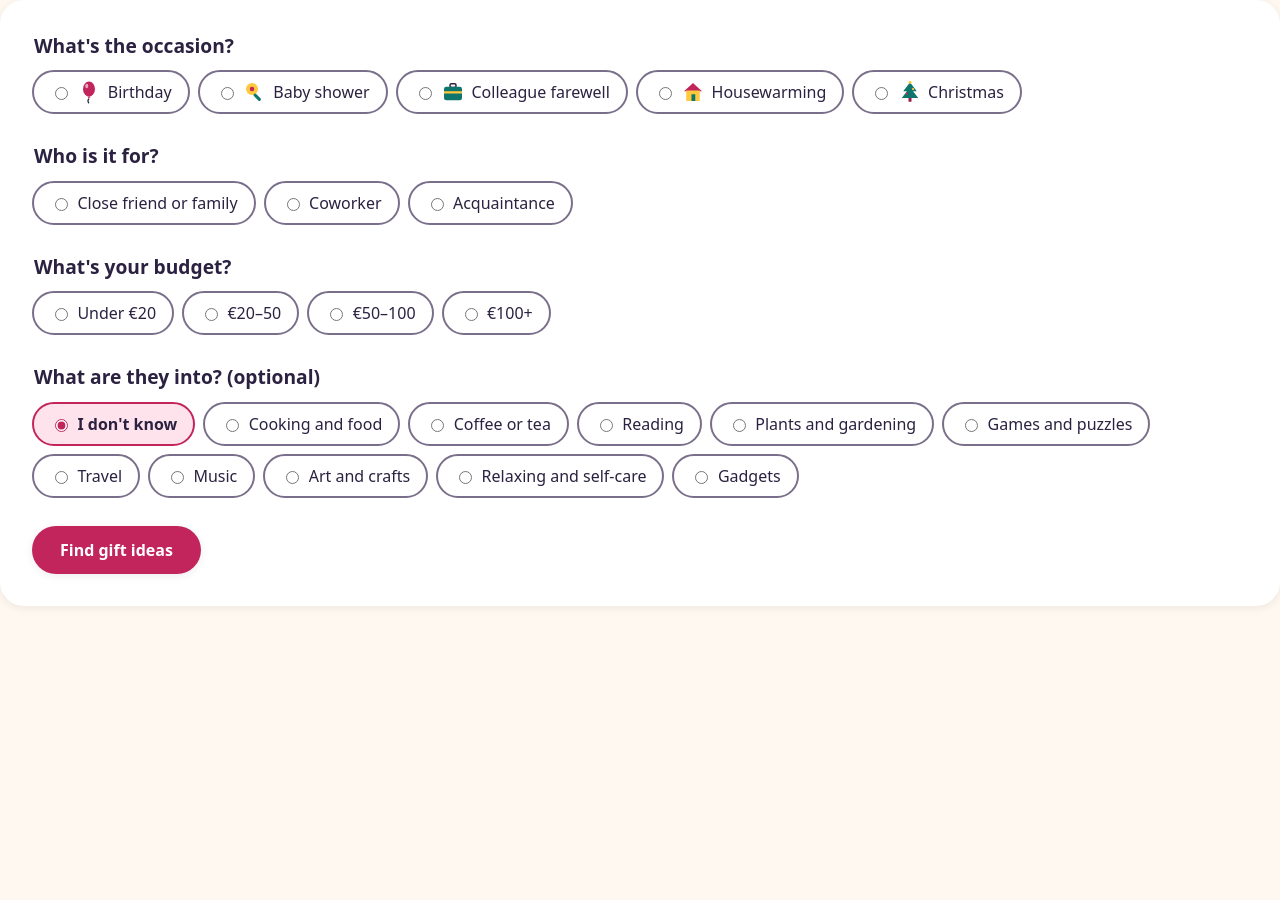
Scenario: GiftQuizForm › clears "Baby or new parent" when the occasion changes away from baby shower
Click the radio button labelled "Baby shower": [227, 94] box [221,87,234,100]
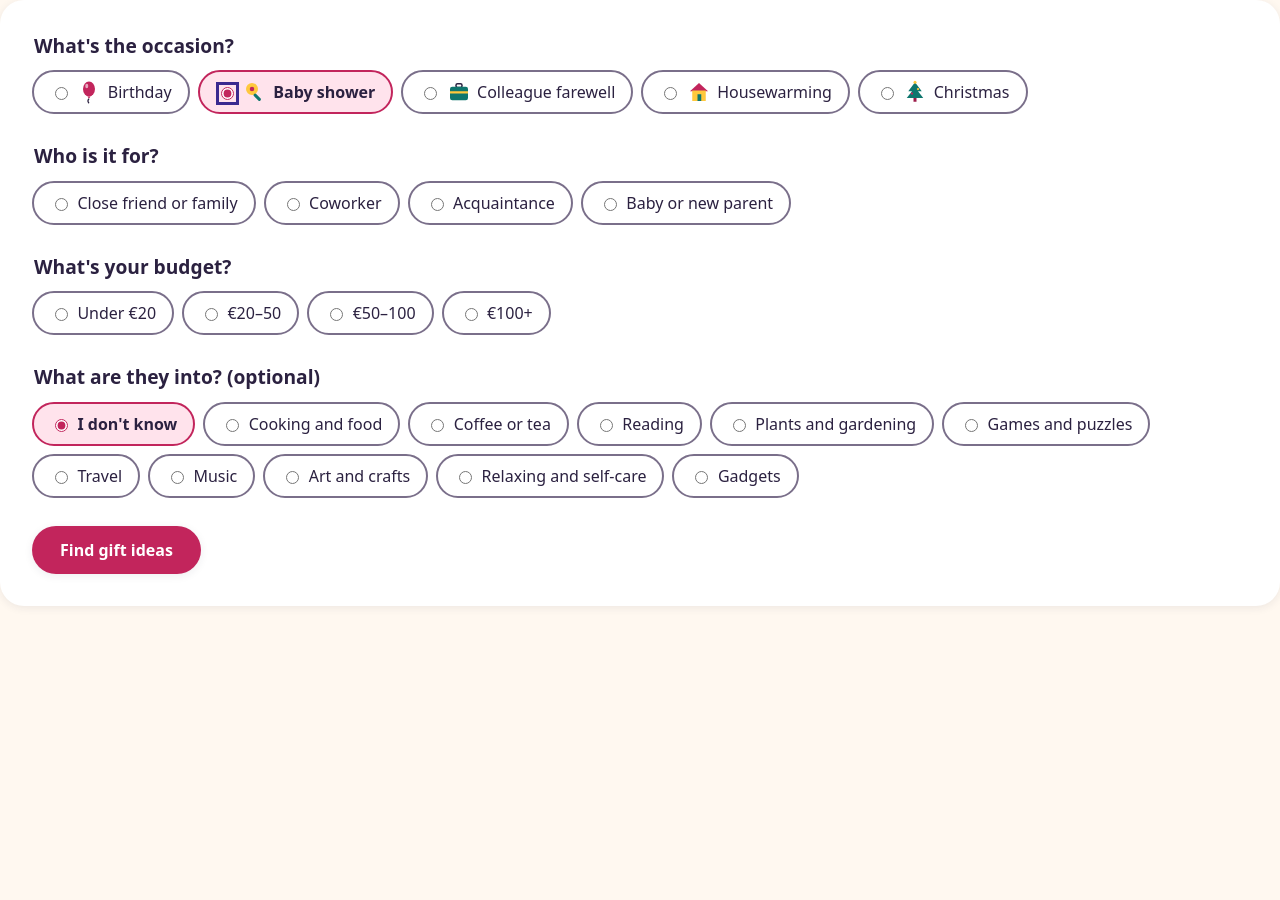
Click the radio button labelled "Baby or new parent": [610, 204] box [604,198,617,211]
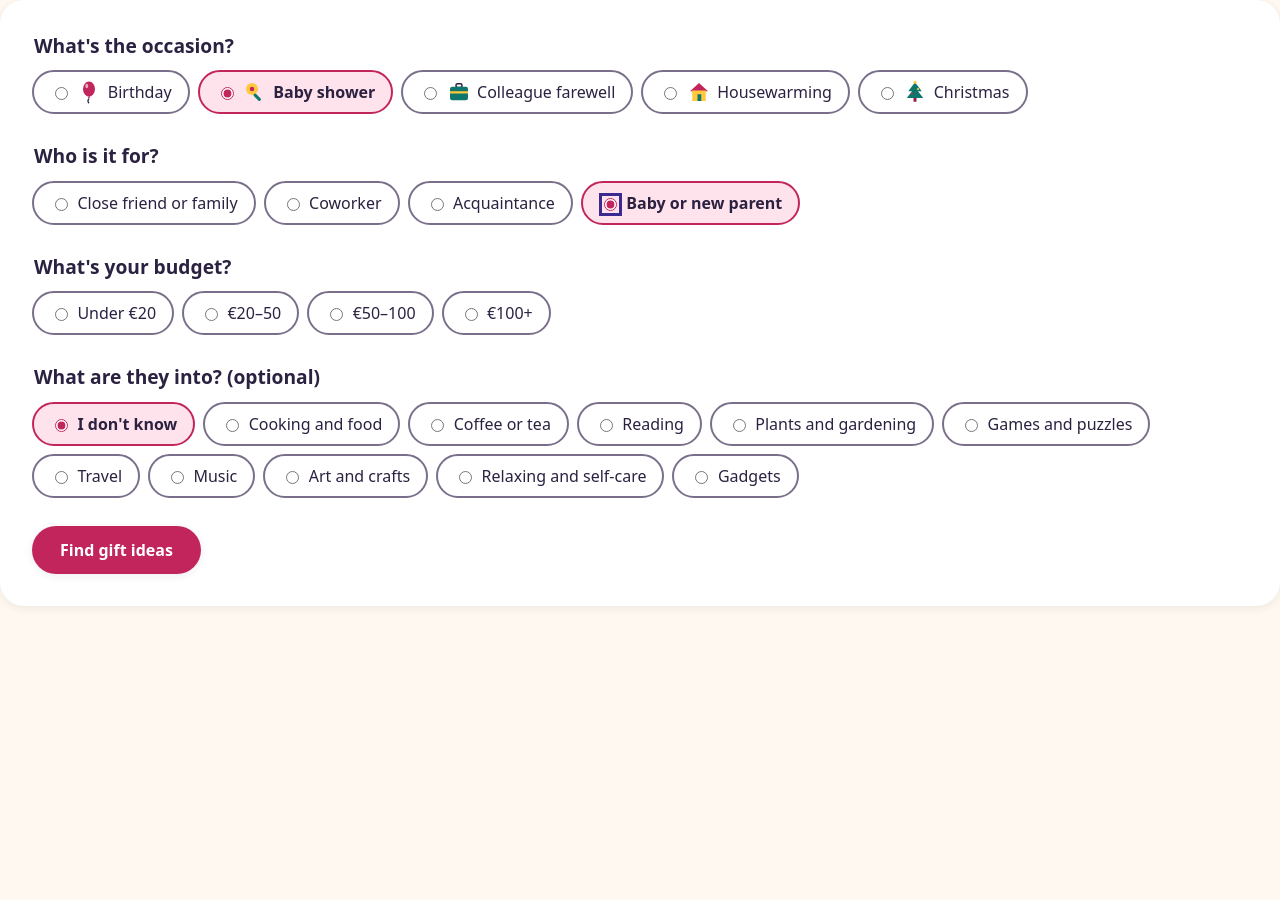
Click the radio button labelled "Birthday": [62, 94] box [55,87,68,100]
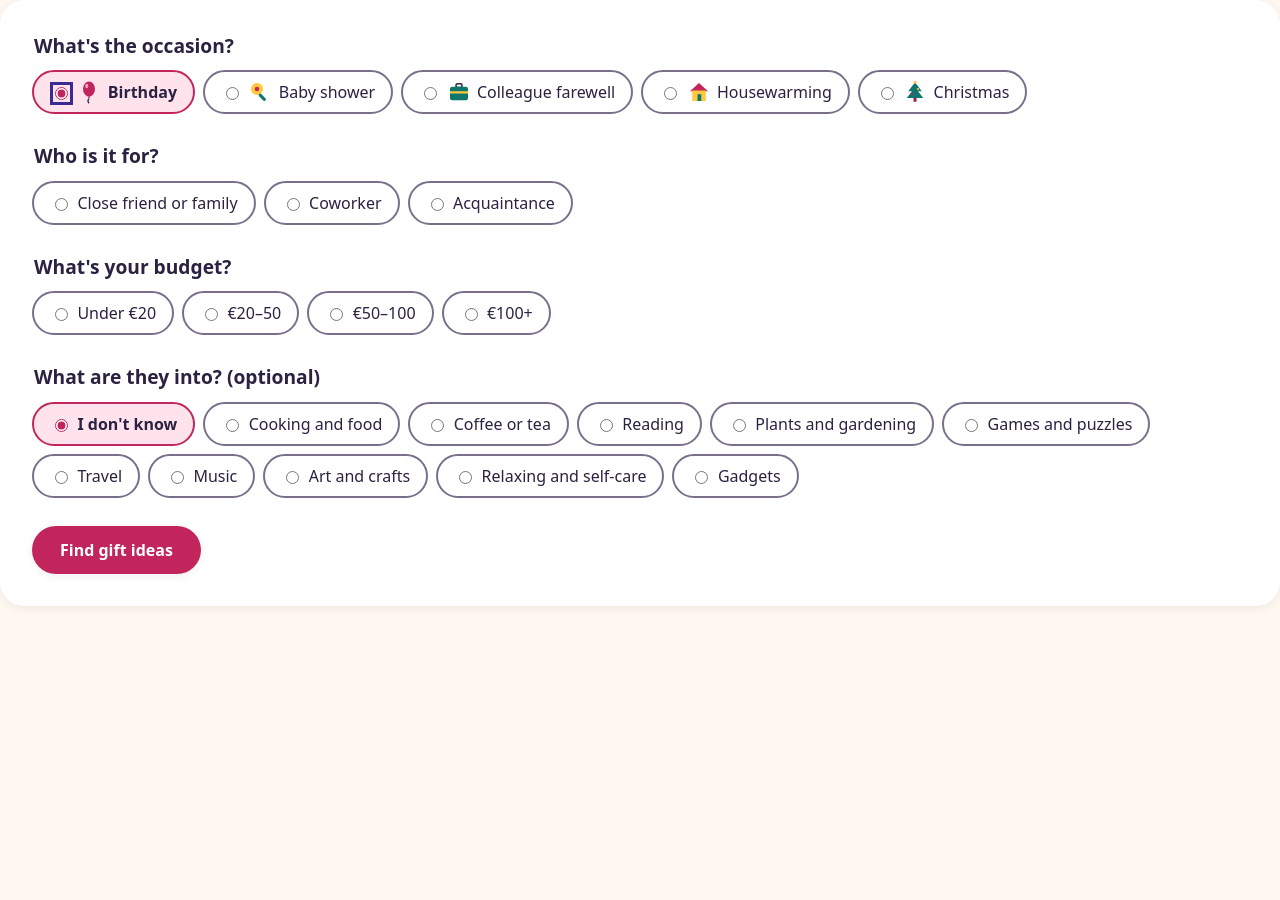
Click the radio button labelled "Under €20": [62, 315] box [55,308,68,321]
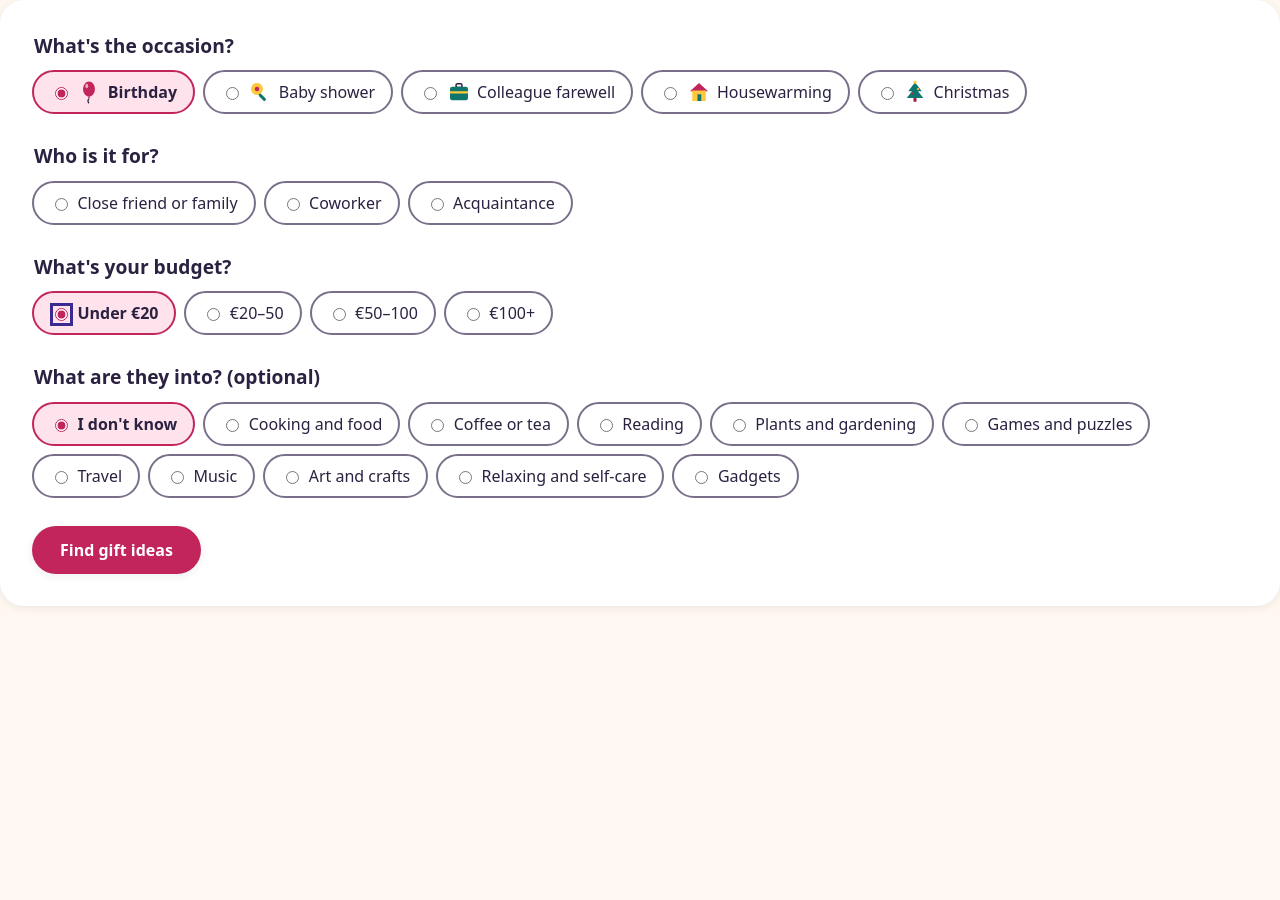
Click the button "Find gift ideas": [116, 550] box [32,526,201,574]
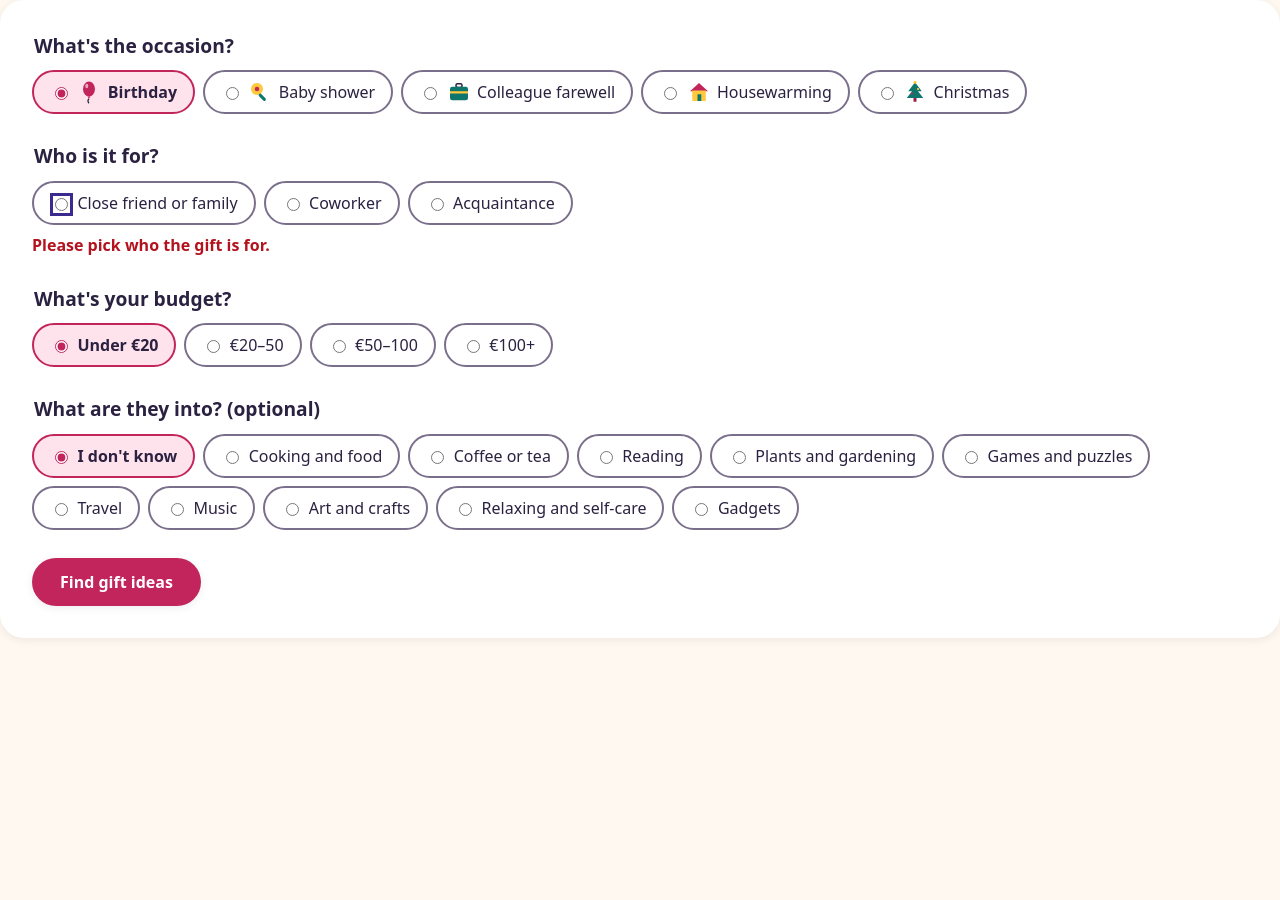
Check: the text "Please pick who the gift is for." is shown, box [32,234,270,256]
